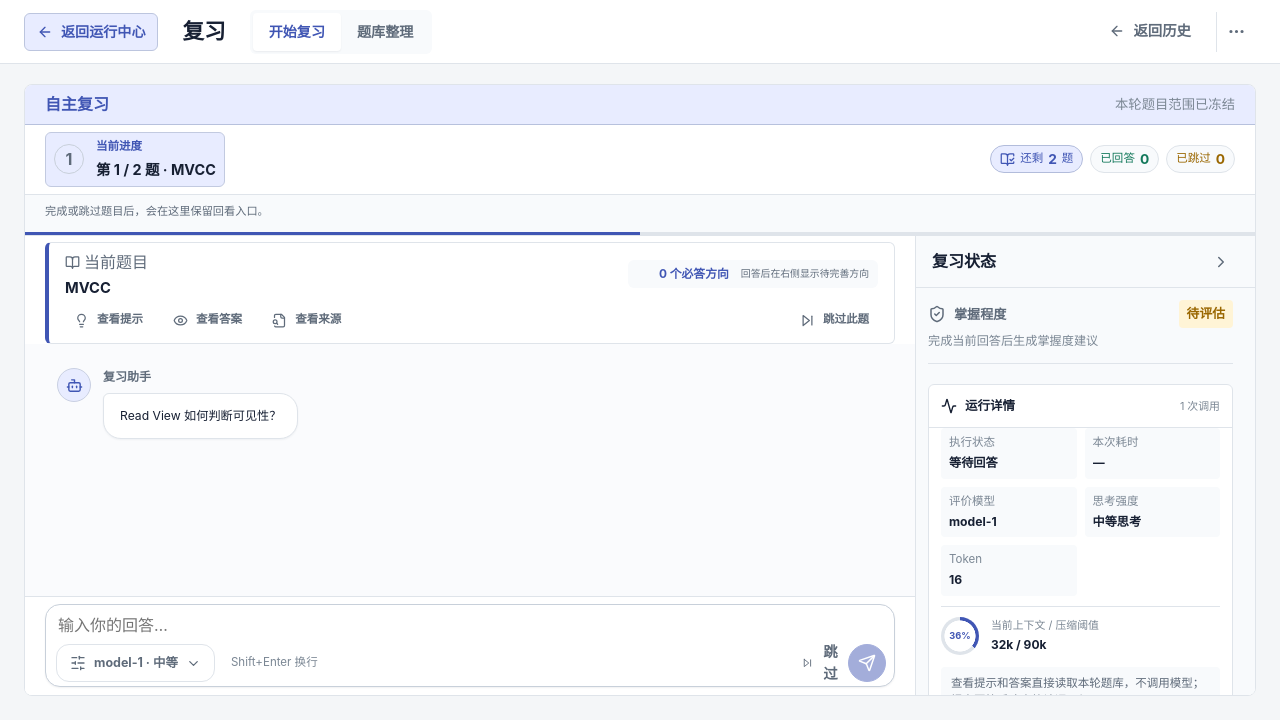
Test: R2 ReviewPage › leaves a run-center deep-linked round when opening question curation
The width and height of the screenshot is (1280, 720).
Expected: the element named "当前复习轮次" is shown, [25, 236, 915, 695]
Step 1. Click the button "题库整理" → (385, 32), box [341, 12, 429, 50]
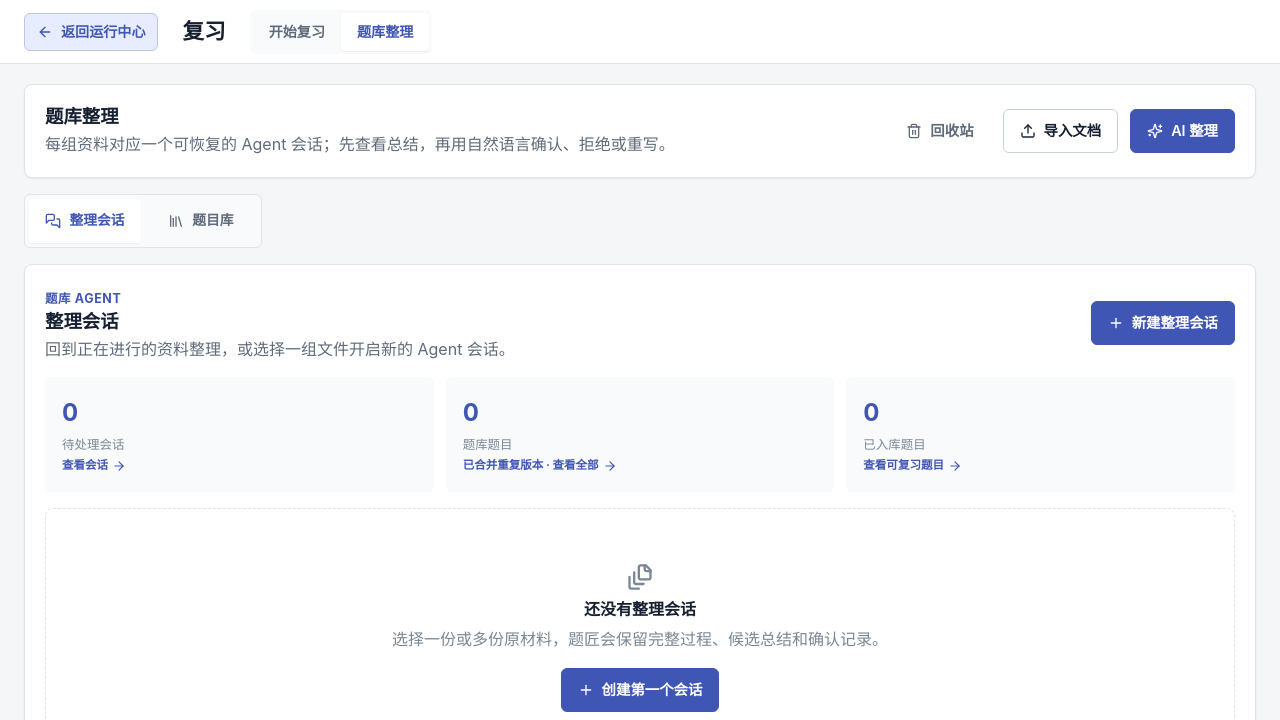
Now the heading "题库整理" is shown, box [45, 105, 119, 127]
Now the element "当前复习轮次" is gone
